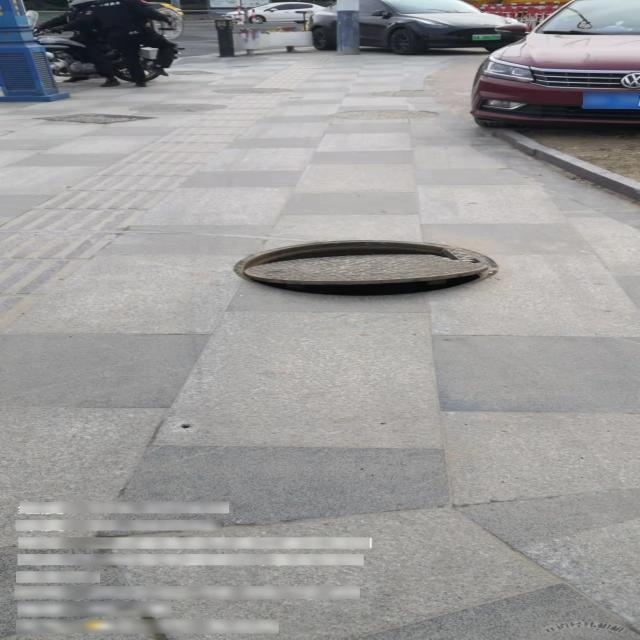Lose: (234, 240, 500, 300)
